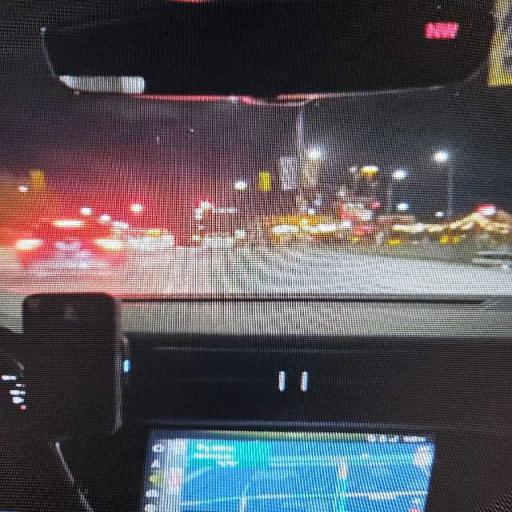car: (0, 0, 511, 511), (14, 220, 126, 268), (472, 251, 511, 270)
lane: (0, 247, 511, 295)
